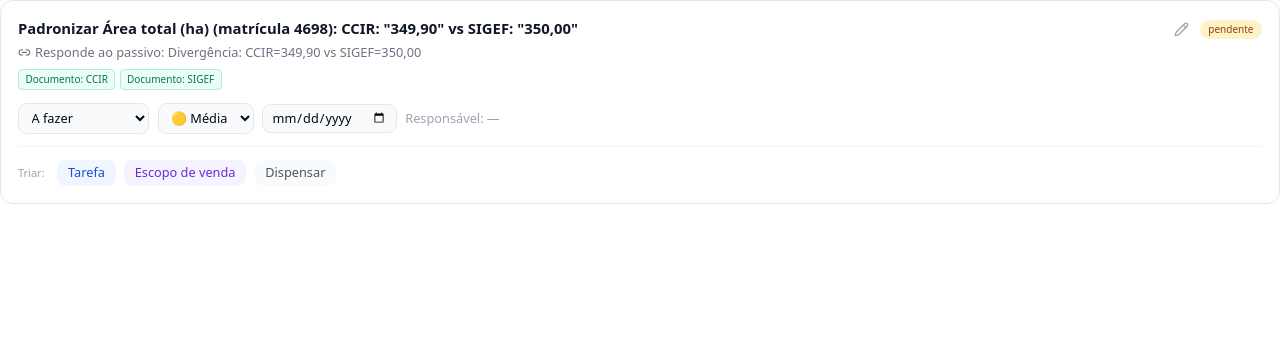
Test: AcaoCard (item 1 — ação editável) › mostra o título legível (não o achado cru) e abre a edição já com ele
Check: the text "Padronizar Área total (ha) (matrícula 4698): CCIR: \"349,90\" vs SIGEF: \"350,00\"" is shown, box [18,18,578,38]
Click the button named "editar ação". click: (1182, 30)
box: [1170,18,1193,41]
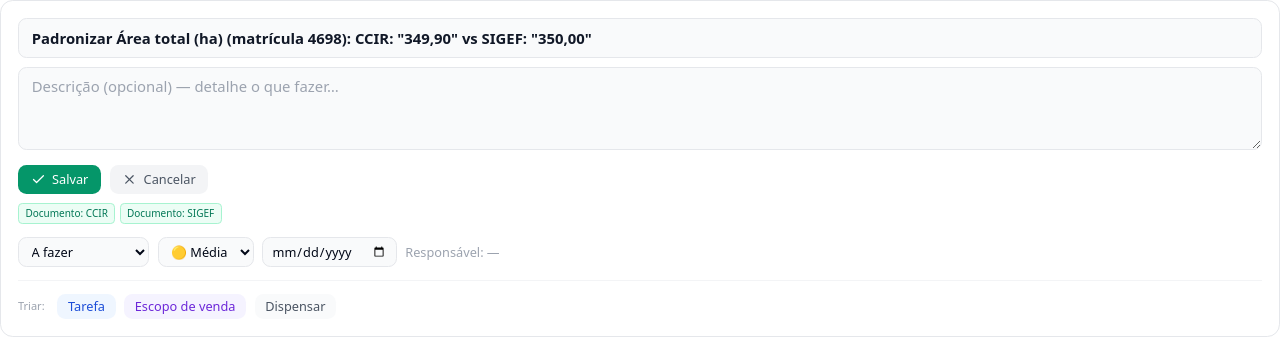
Check: the field named "Título da ação" holds "Padronizar Área total (ha) (matrícula 4698): CCIR: \"349,90\" vs SIGEF: \"350,00\"", box [18,18,1262,58]
